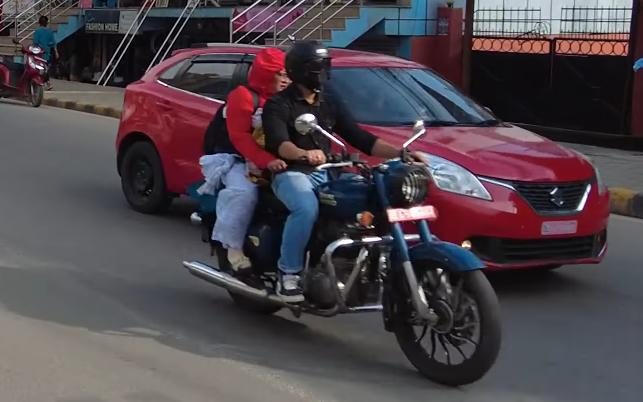bike: (168, 112, 514, 388)
